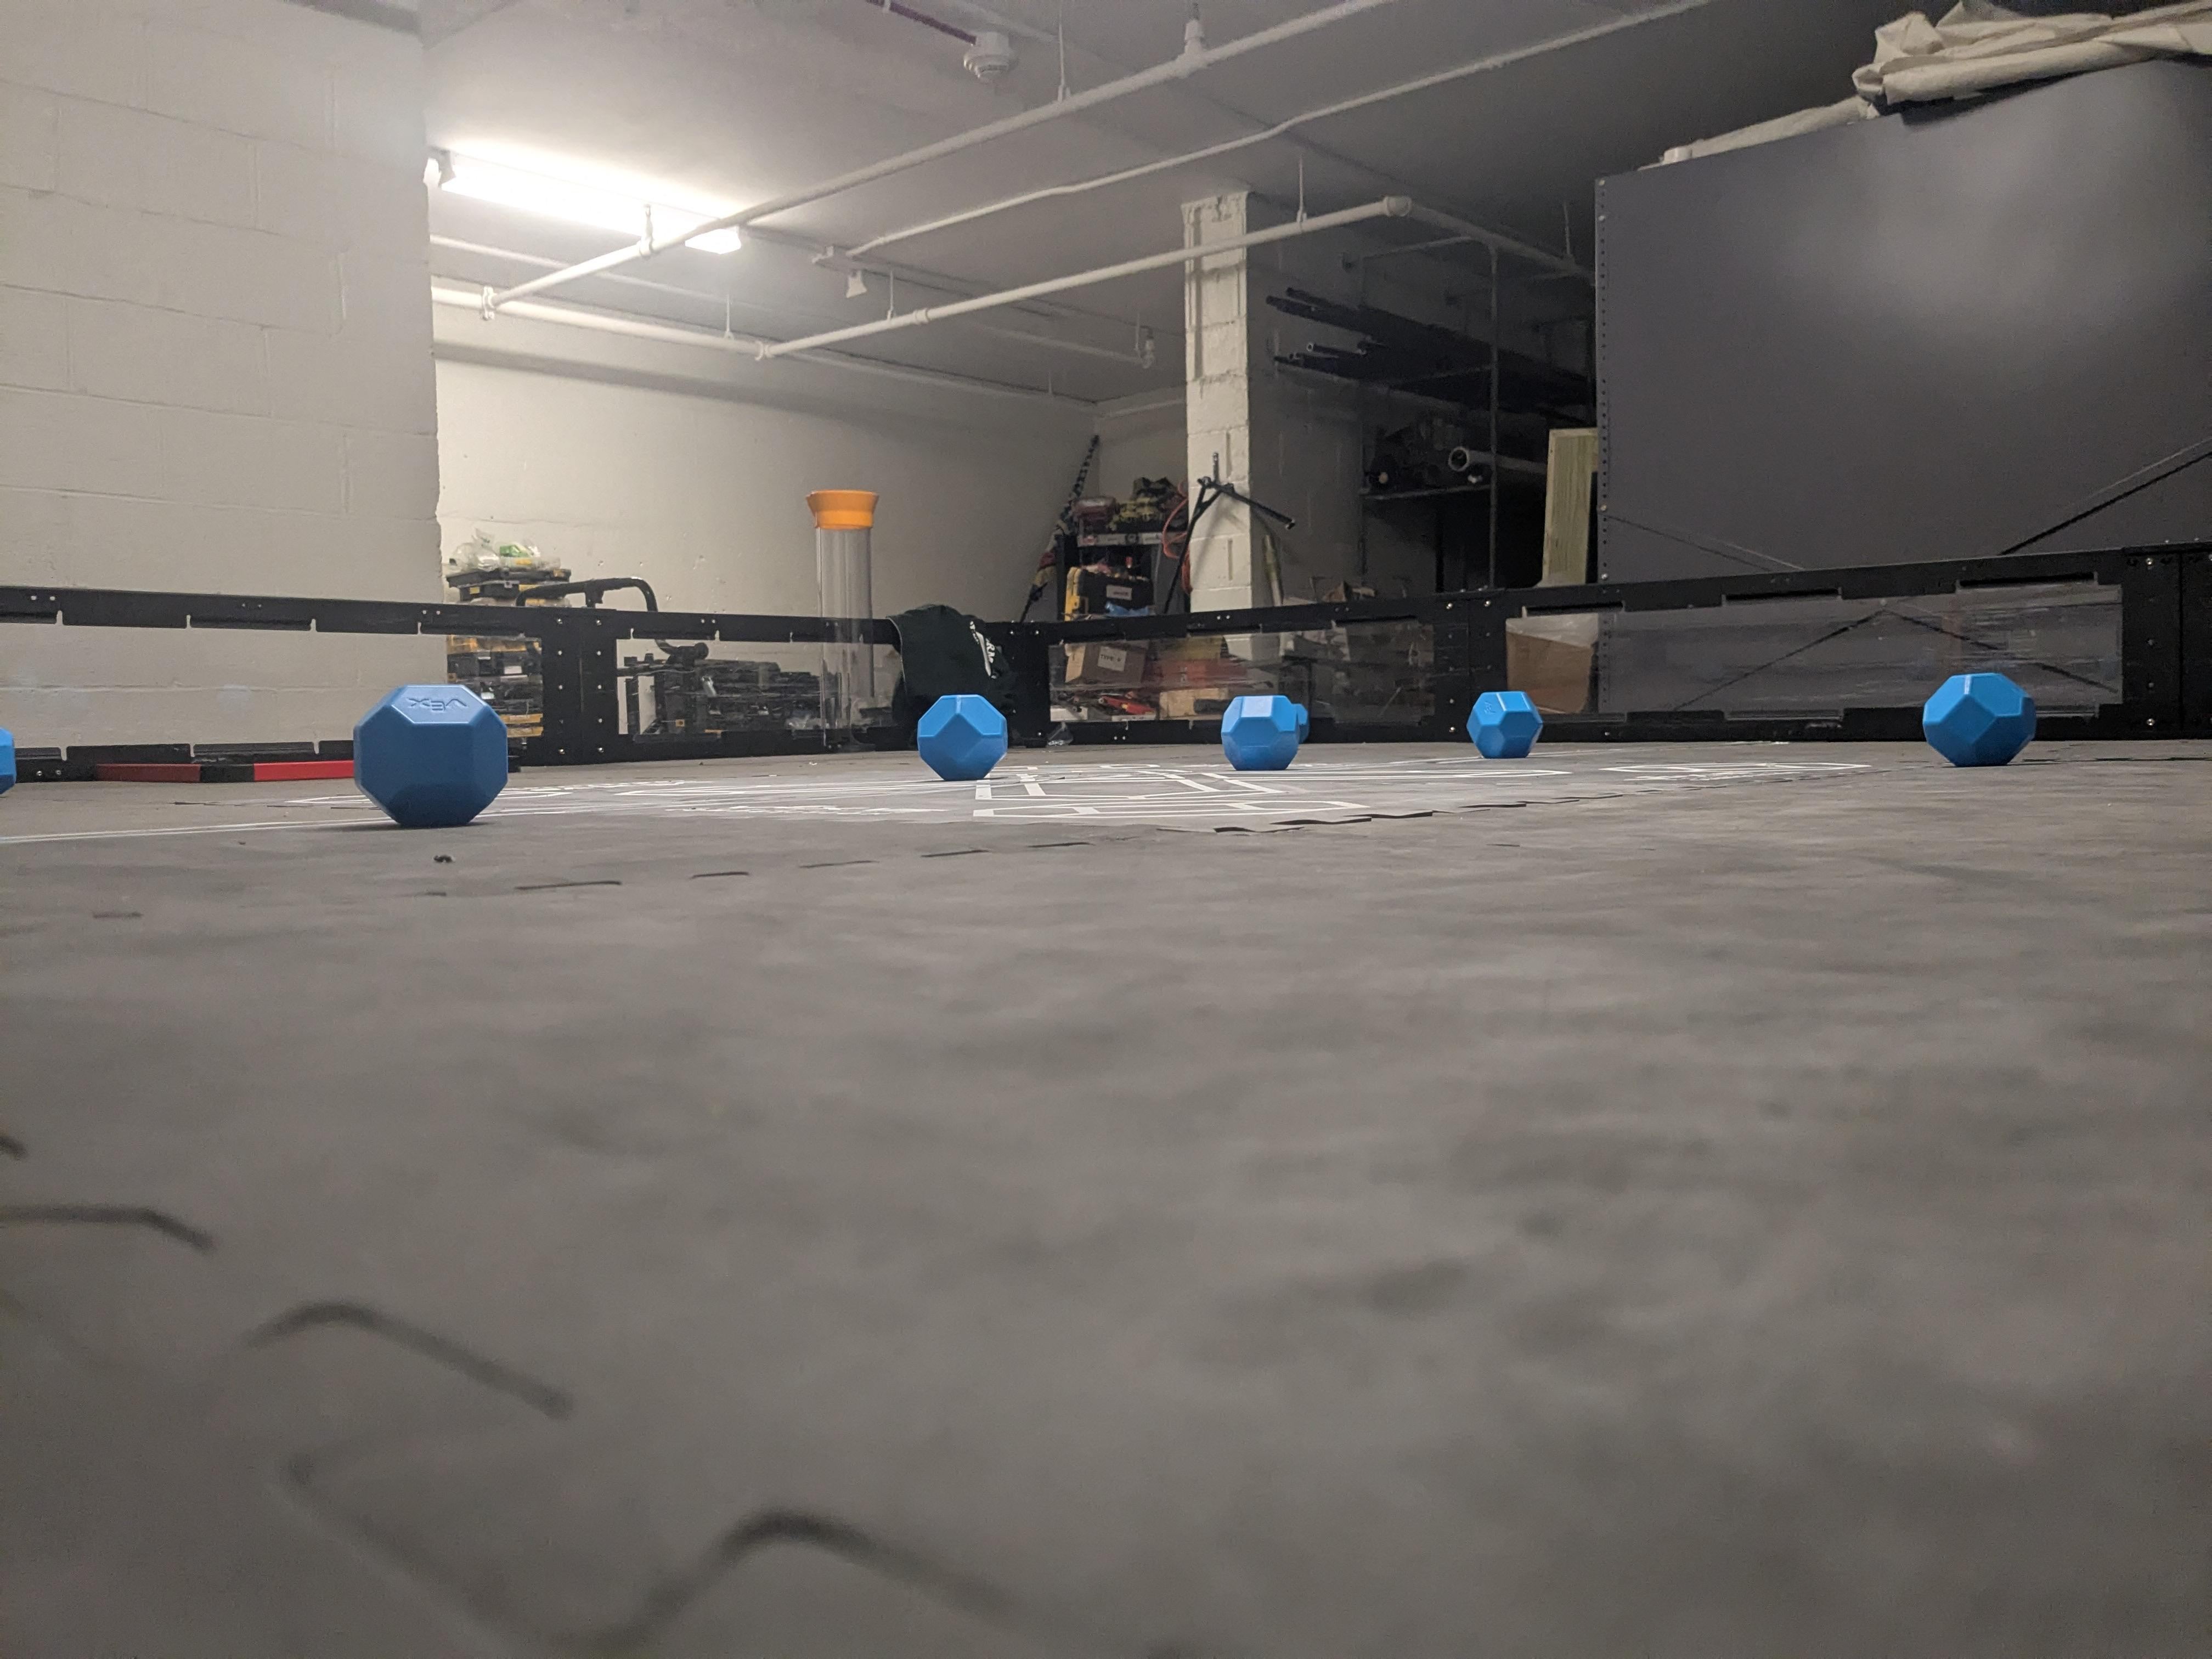Vex-Pieces-BLUE: (355, 685, 507, 826), (1921, 673, 2031, 765), (916, 697, 1005, 774), (1219, 697, 1310, 765), (1468, 692, 1545, 756)
